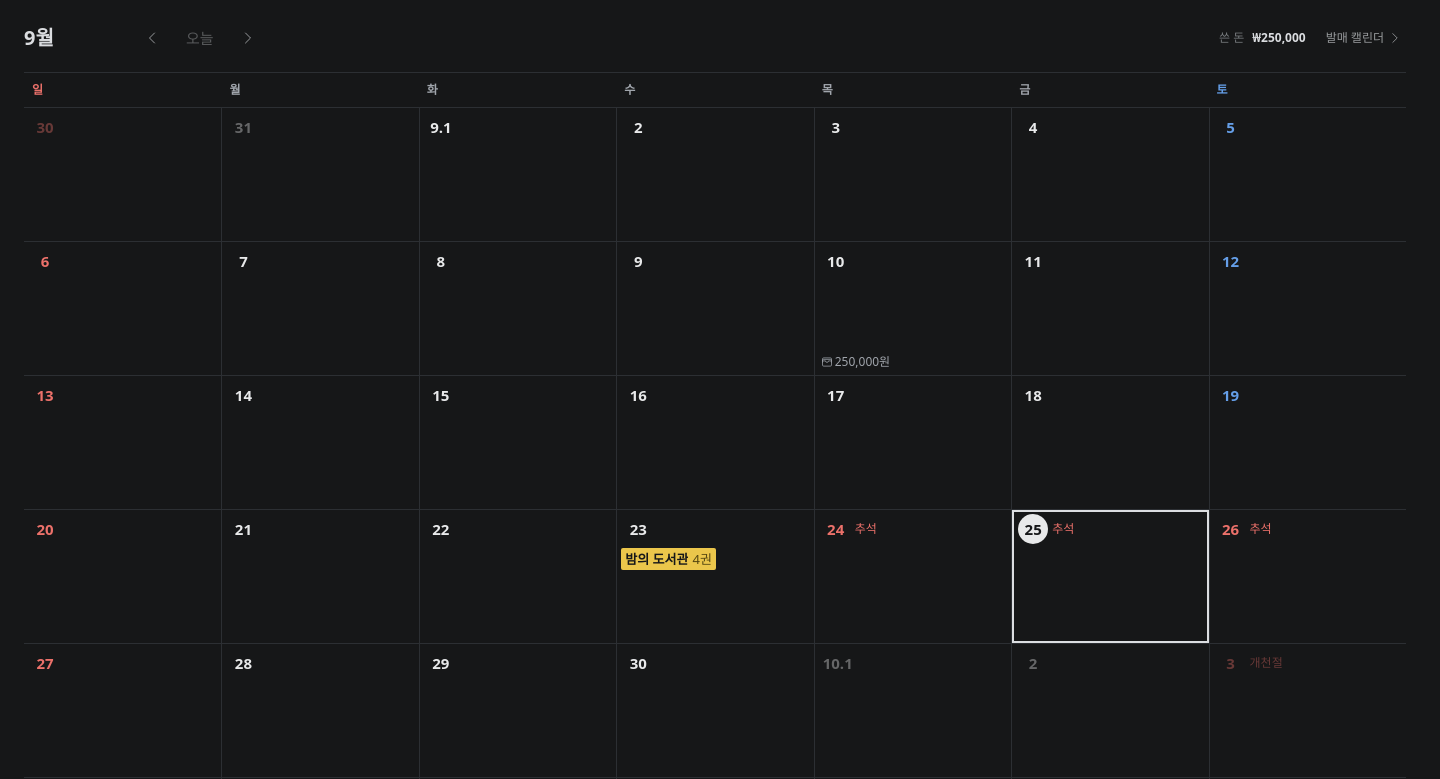
Test: shared Home attention on tablet › puts a wishlist title on its own day, past the old two weeks, and pages months with the buttons
The image size is (1440, 779).
Step 1. Click the button named "다음 달" → (248, 38), box [226,16,270,60]
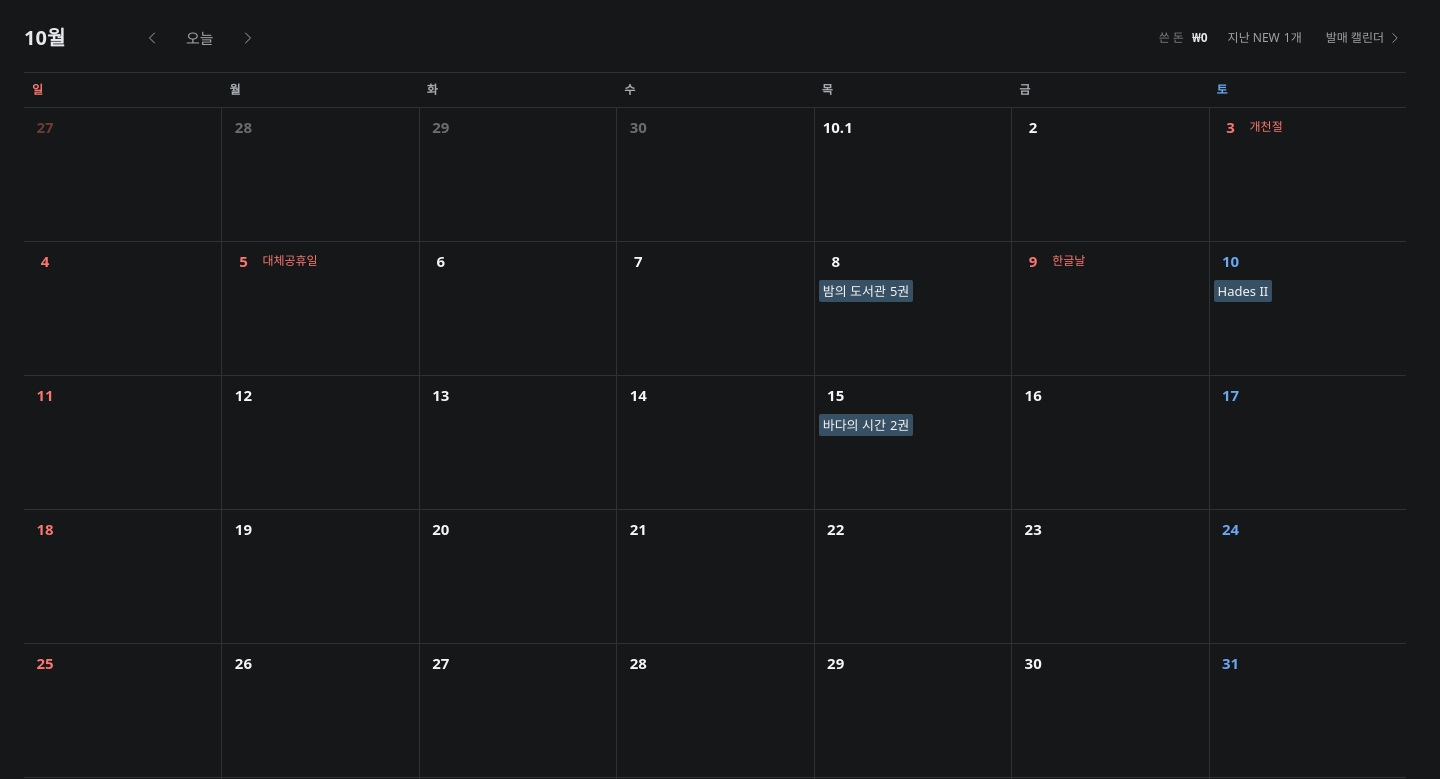
Expected: the heading "10월" is shown, [24,24,65,51]
Step 2. Click the button named "다음 달" → (248, 38), box [226,16,270,60]
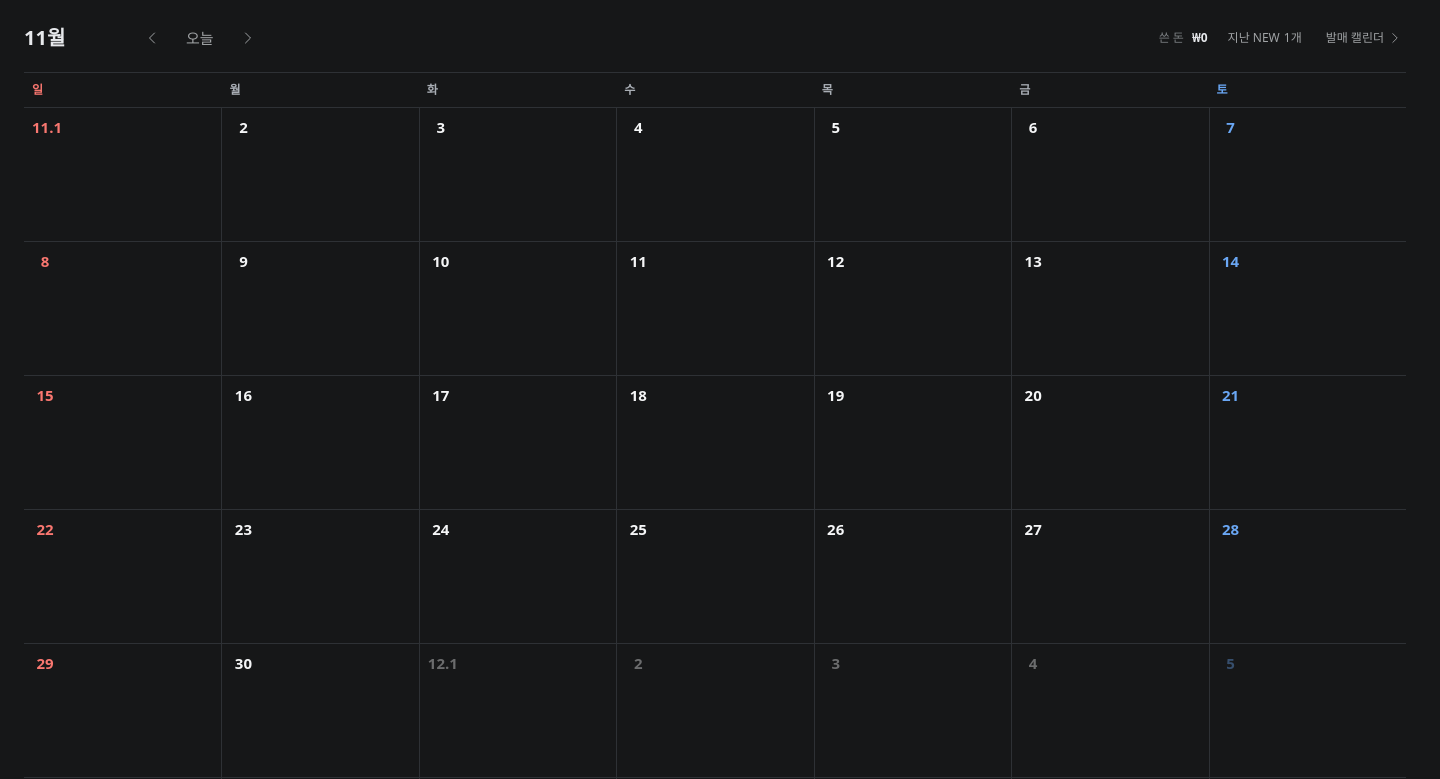
Expected: the heading "11월" is shown, [24,24,65,51]
